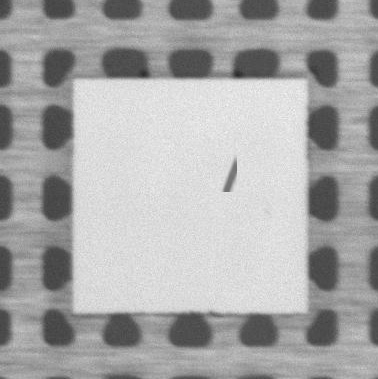DIE_INK: (221, 155, 239, 194)
